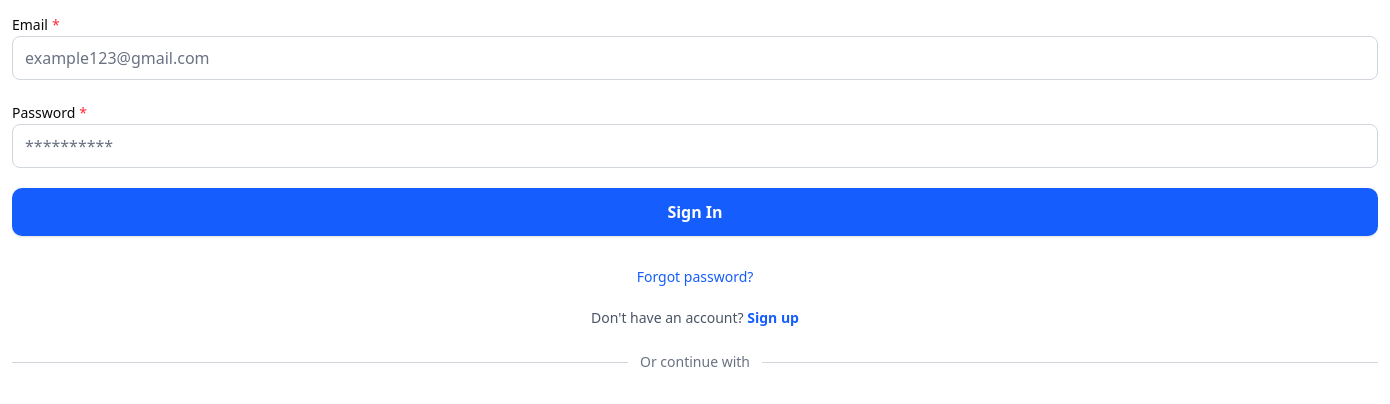
Scenario: LoginForm › shows validation error for invalid email format
The width and height of the screenshot is (1390, 404).
Type "invalid-email" into the field labelled "Email*".
click(695, 58); type("invalid-email")  # box [12,36,1378,80]
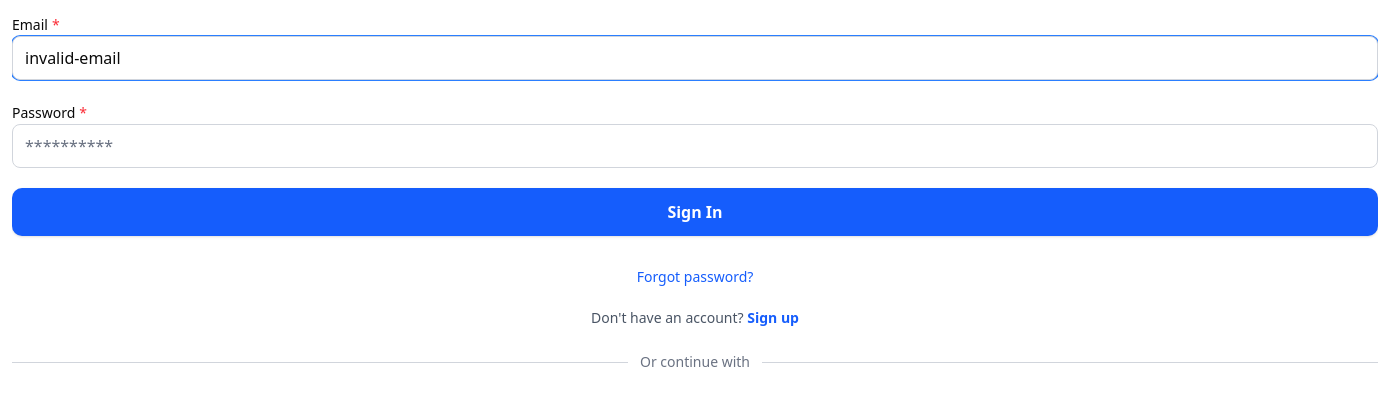
Type "password123" into the password field labelled "Password*".
click(695, 146); type("password123")  # box [12,124,1378,168]
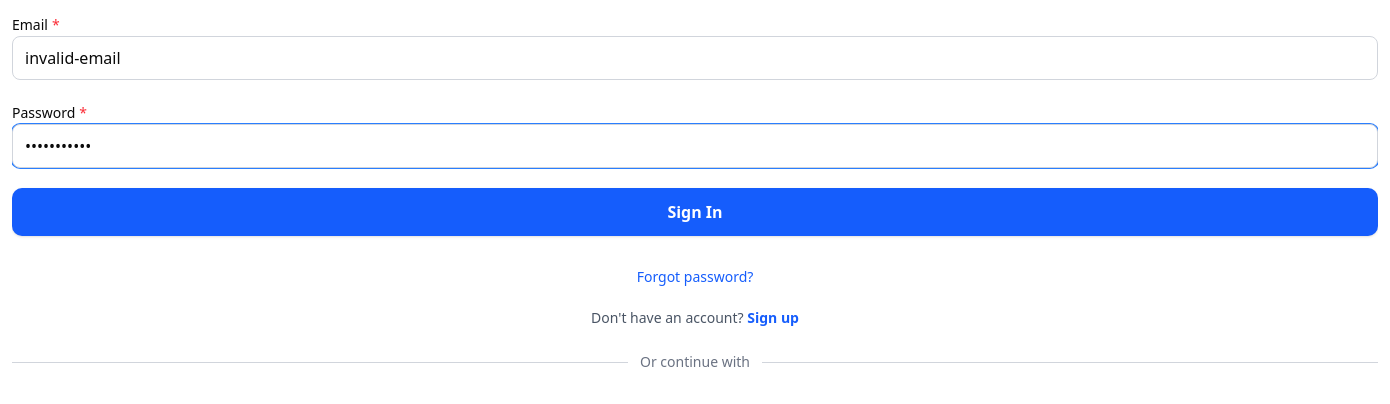
Click the button "Sign In".
click(695, 212)  # box [12,188,1378,236]
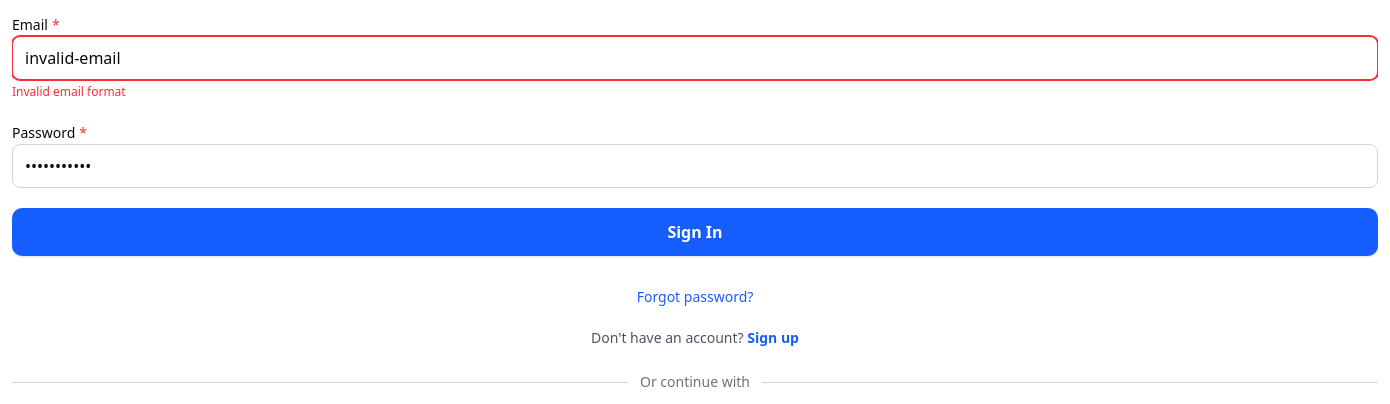
Check: the text "Invalid email format" is shown, box [12,83,126,100]
